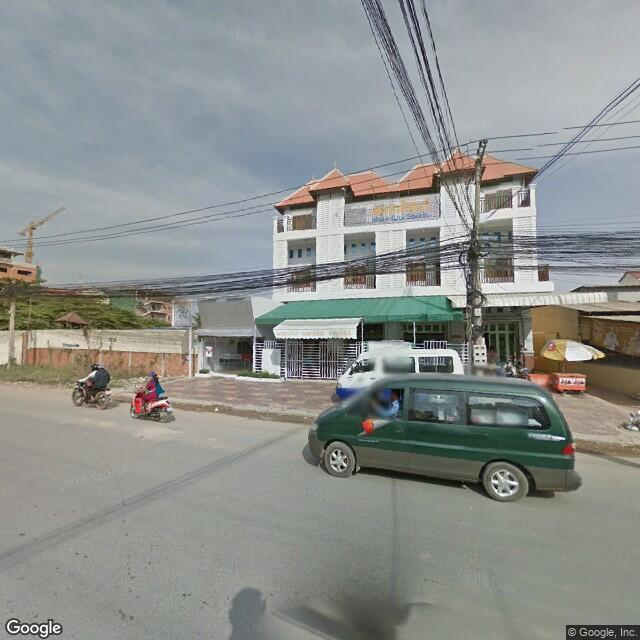litter: (209, 402, 222, 415)
